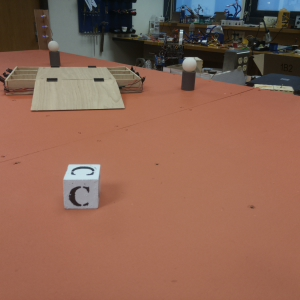blockC: (61, 163, 104, 209), (47, 39, 62, 65)
corner: (35, 9, 50, 48)
obstacle: (180, 58, 196, 89)
side: (1, 65, 35, 98), (113, 65, 149, 93)
slope: (33, 79, 124, 111)
